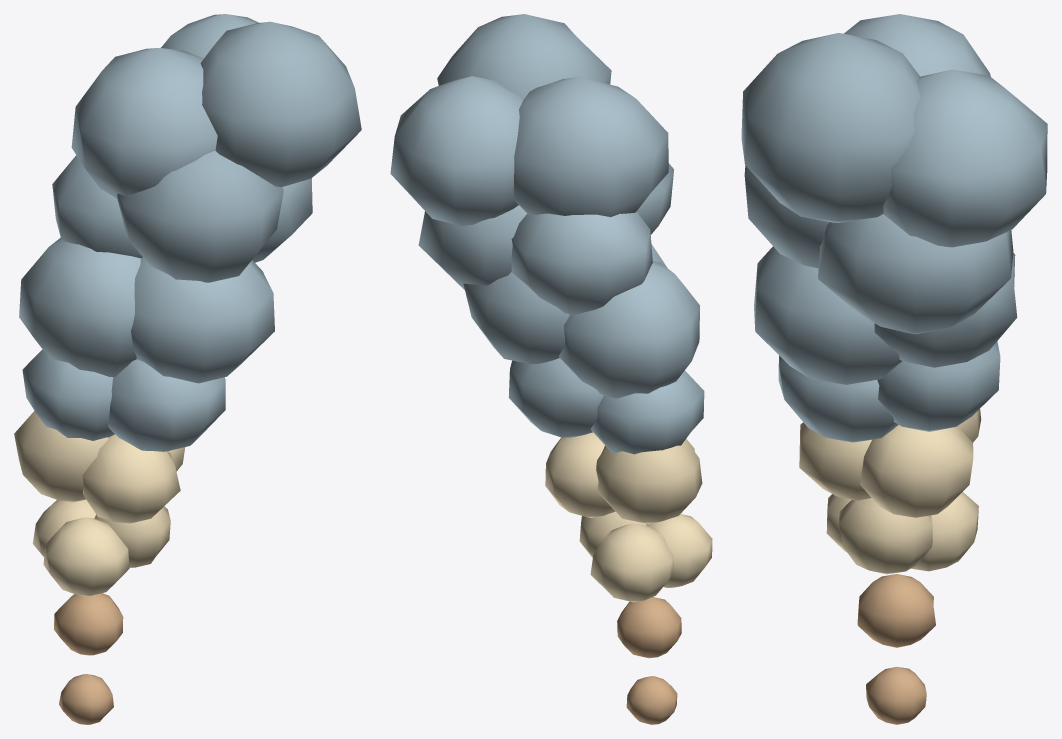
The model's file is prop_smoke_plume_a.glb.
3 renders of one model, left to right at view 1: azimuth 30°, elevation 25°; view 2: azimuth 150°, elevation 25°; view 3: azimuth 270°, elevation 25°, orthographic. The views are drawn at different scales.
Parts seen in each view (by area): view 1: prop_smoke_plume_a_mesh; view 2: prop_smoke_plume_a_mesh; view 3: prop_smoke_plume_a_mesh.
Part boxes in pixels (<box>): prop_smoke_plume_a_mesh: <box>14,14,361,724</box>; prop_smoke_plume_a_mesh: <box>390,14,712,724</box>; prop_smoke_plume_a_mesh: <box>741,14,1047,724</box>.
Size of the model in its own units: 1.34 by 2.98 by 1.06.
